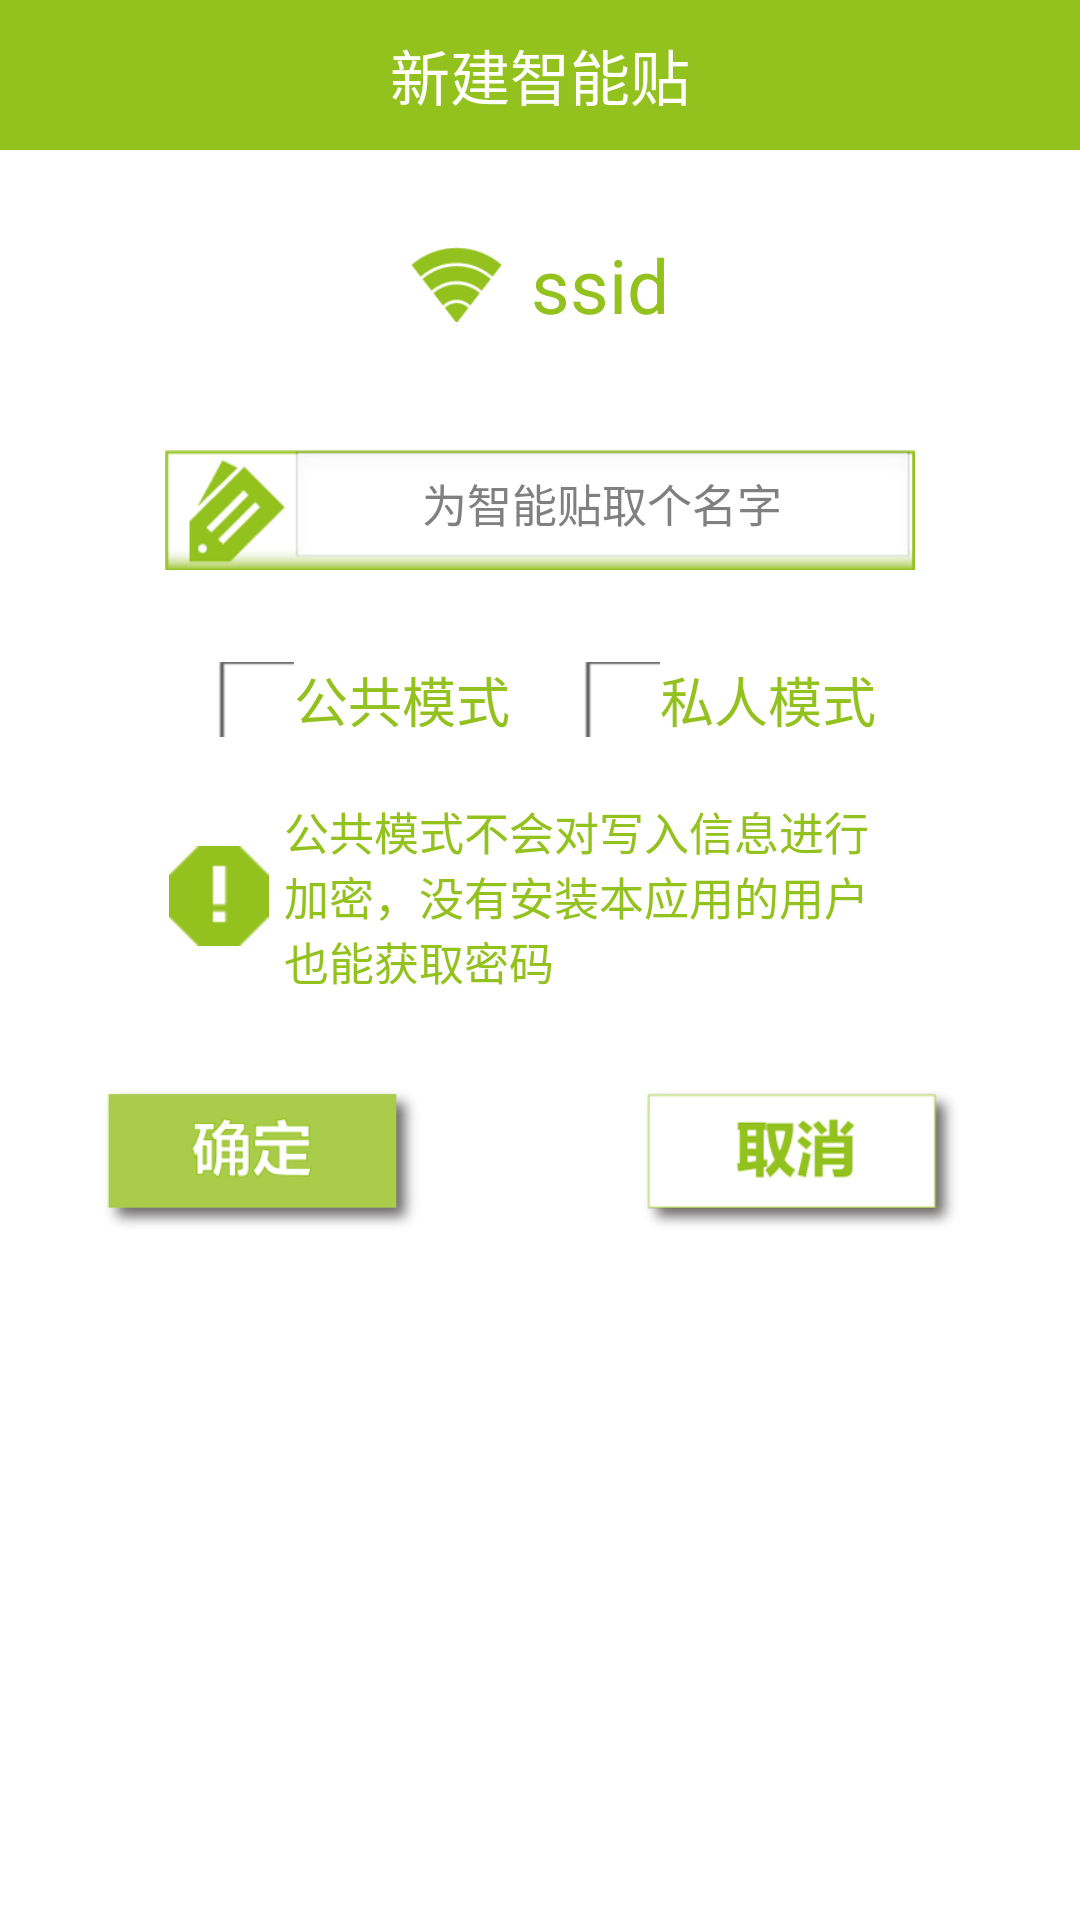

Screen size 1080x1920. Icon name, then its center in pixels as (x=x, y=y):
tips: (x=219, y=896)
